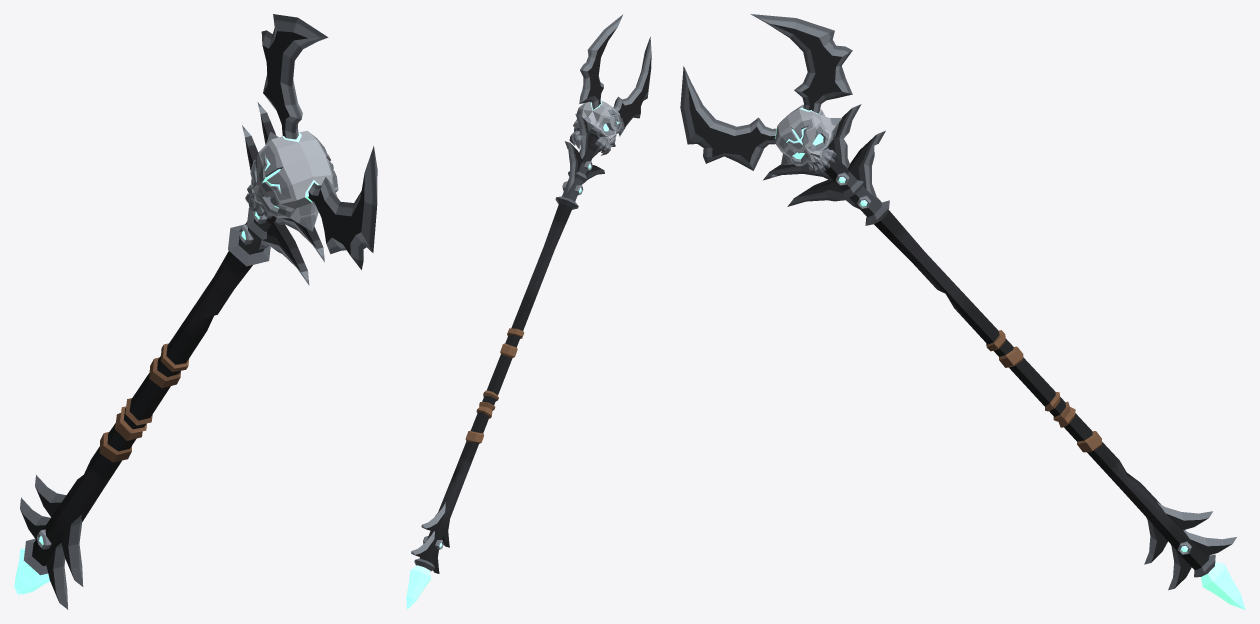
Rendered from df-staff-01.glb.
3 renders of one model, left to right at view 1: azimuth 30°, elevation 25°; view 2: azimuth 150°, elevation 25°; view 3: azimuth 270°, elevation 25°, orthographic. The views are drawn at different scales.
Visible parts, largest first — view 1: df-staff-01; view 2: df-staff-01; view 3: df-staff-01.
Part boxes in pixels (x1=…): df-staff-01: x1=14, y1=14, x2=377, y2=609; df-staff-01: x1=406, y1=14, x2=651, y2=609; df-staff-01: x1=680, y1=14, x2=1245, y2=609.
Bounding box in the file's own units: 0.186 × 1.7 × 1.5.
Materials: 1 (1 with a texture image).
